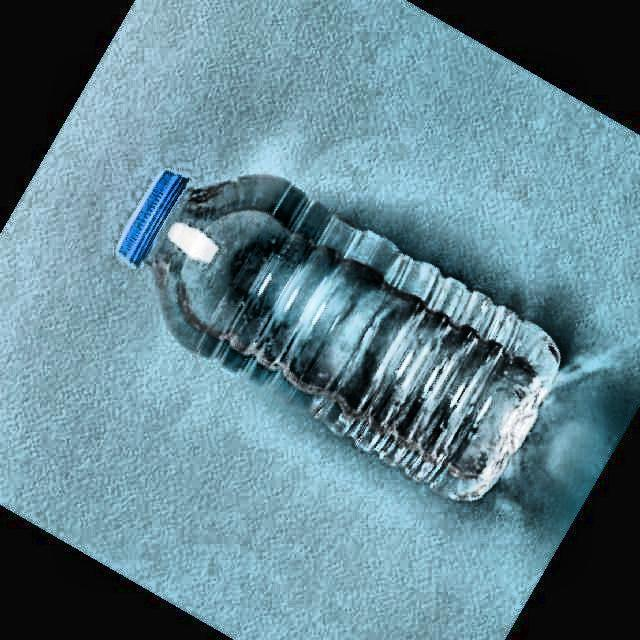plastic: (119, 171, 560, 499)
